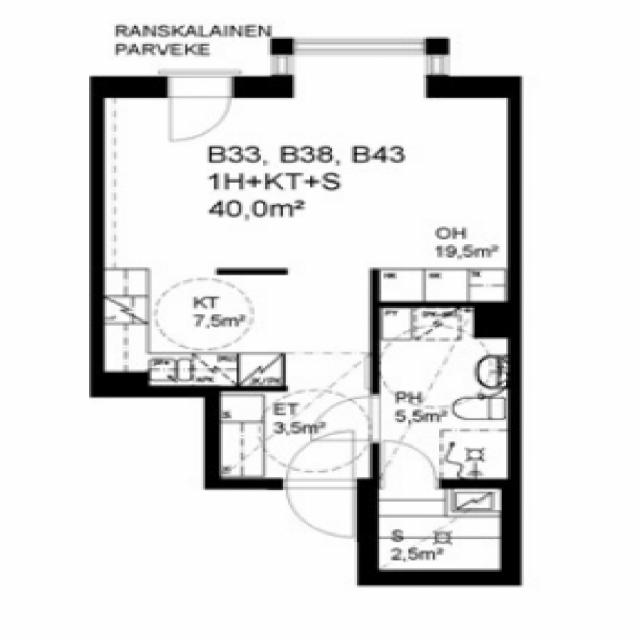door: (169, 76, 232, 144), (286, 478, 353, 539), (286, 430, 353, 490), (384, 439, 438, 488)
